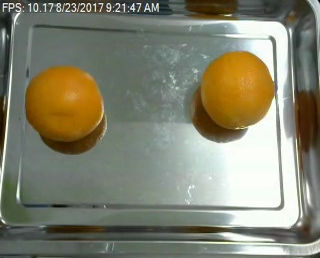Orange: (200, 49, 277, 130), (24, 67, 104, 141)
